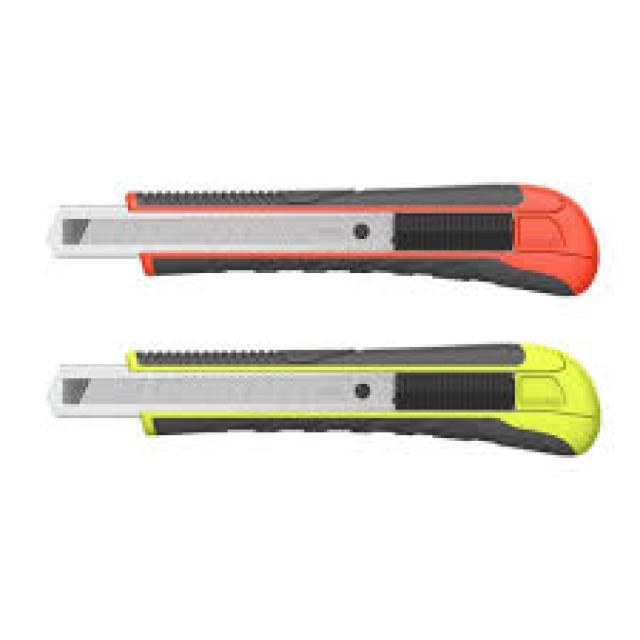cutter: (46, 324, 604, 472), (37, 180, 610, 300)
